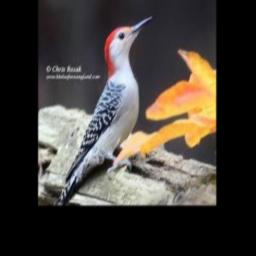Woodpecker: (54, 15, 152, 205)
